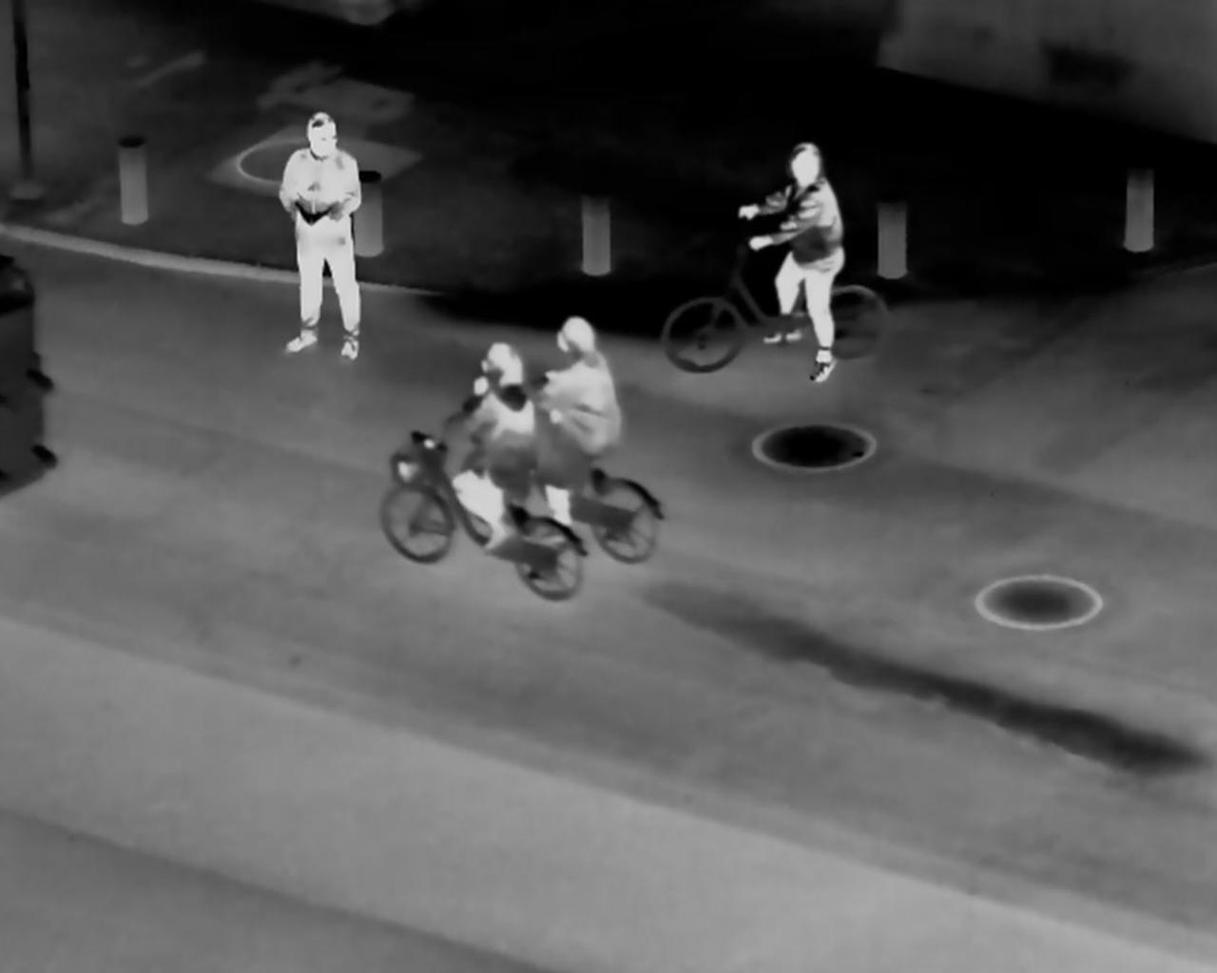person: (739, 138, 857, 393), (526, 307, 643, 527), (279, 108, 377, 368), (431, 334, 534, 566)
